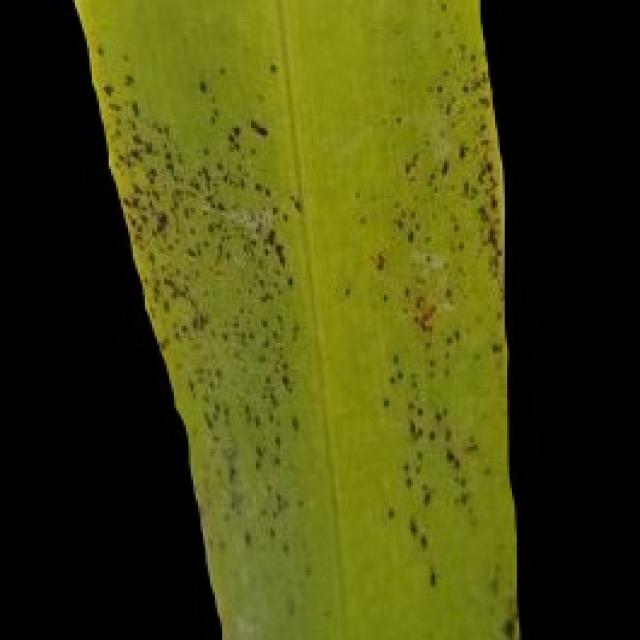mite: (246, 116, 268, 138), (500, 613, 517, 638)
spots: (48, 0, 526, 638)
